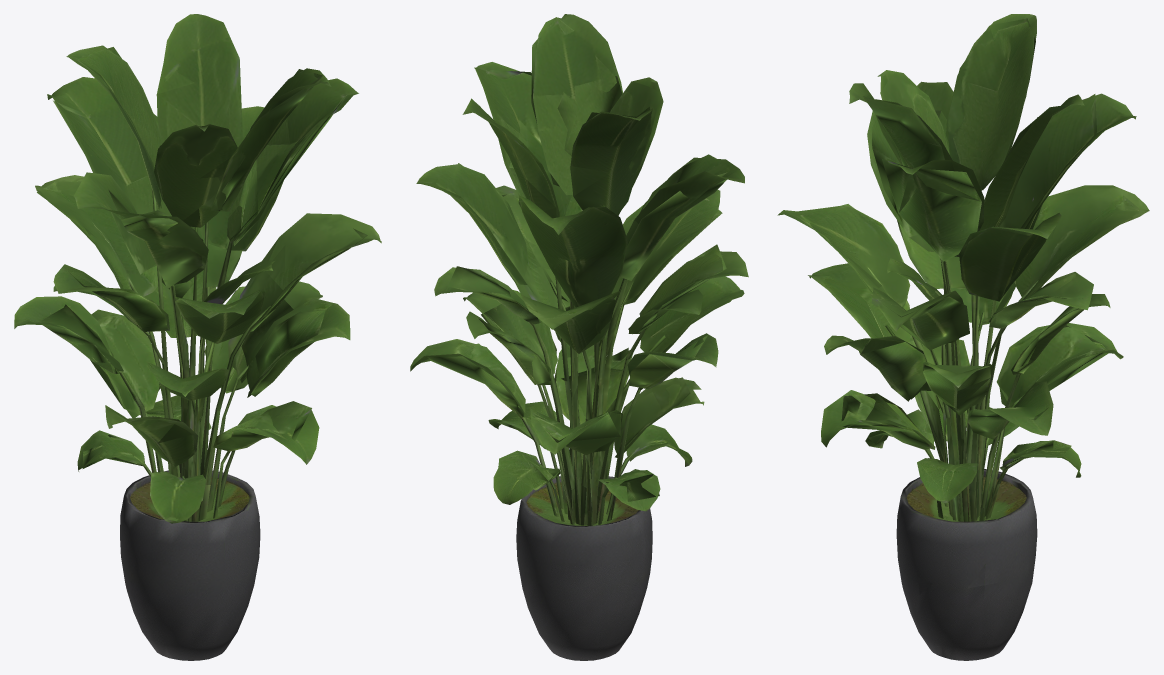
Rendered from TallPlant.fbx.
3 views of the same model, side by side, from view 1: azimuth 30°, elevation 25°; view 2: azimuth 150°, elevation 25°; view 3: azimuth 270°, elevation 25° (orthographic). The views are drawn at different scales.
Visible parts, largest first — view 1: mesh_node; view 2: mesh_node; view 3: mesh_node.
Part boxes in pixels (box(x1,y1,x2,y2)): mesh_node: box(14, 14, 381, 660); mesh_node: box(410, 14, 748, 660); mesh_node: box(777, 14, 1149, 660).
Size of the model in its own units: 55.47 by 100 by 57.42.
Materials: 1 (1 with a texture image).
